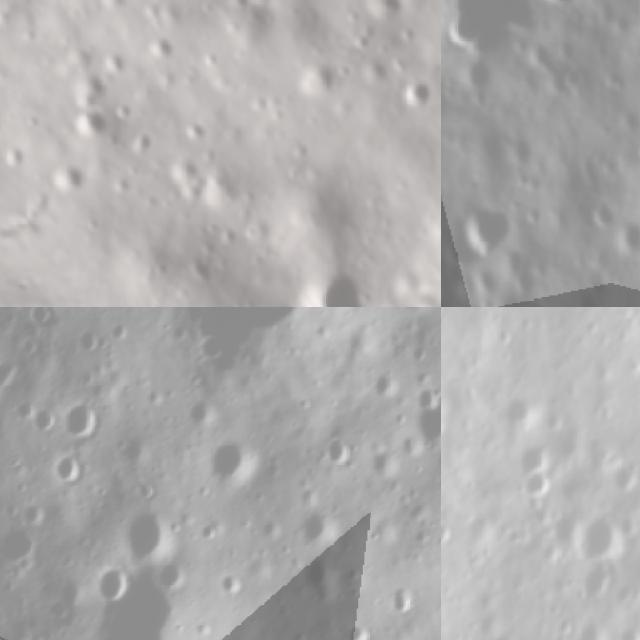crater: (151, 307, 329, 383), (275, 246, 389, 307), (110, 499, 182, 574), (454, 193, 514, 264), (58, 90, 120, 154), (205, 432, 271, 488), (0, 517, 51, 575), (275, 553, 338, 598), (442, 6, 494, 60), (576, 508, 624, 566), (55, 400, 112, 448), (390, 71, 441, 122), (538, 508, 584, 562), (348, 0, 413, 37), (409, 390, 441, 461), (92, 558, 134, 612), (317, 428, 363, 477), (298, 502, 345, 548), (494, 395, 541, 439), (49, 447, 89, 496), (579, 563, 616, 605), (367, 367, 406, 406), (511, 442, 549, 482), (180, 397, 217, 437), (29, 402, 61, 443), (521, 470, 557, 504), (614, 206, 640, 252), (389, 584, 420, 621), (336, 619, 375, 640), (315, 307, 376, 320)
